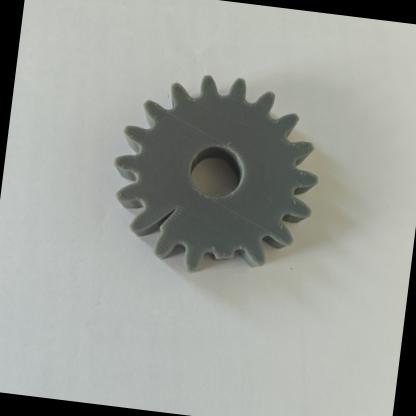defect: (121, 186, 186, 270), (198, 221, 266, 288)
gear: (80, 47, 360, 320)
